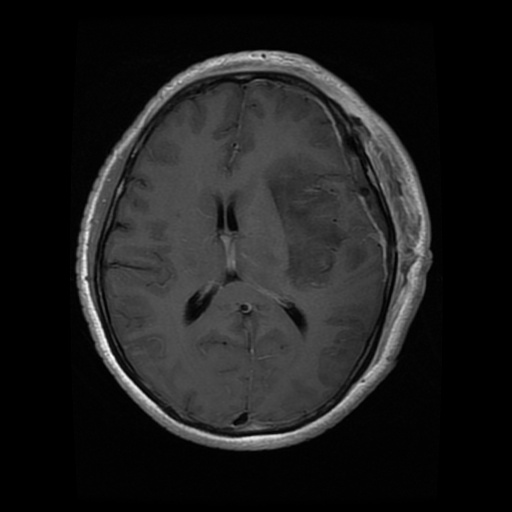glioma: (261, 153, 349, 288)
